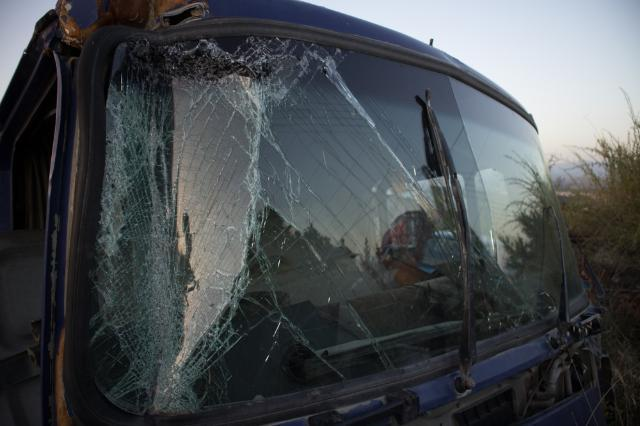glass shatter: (90, 35, 586, 416)
